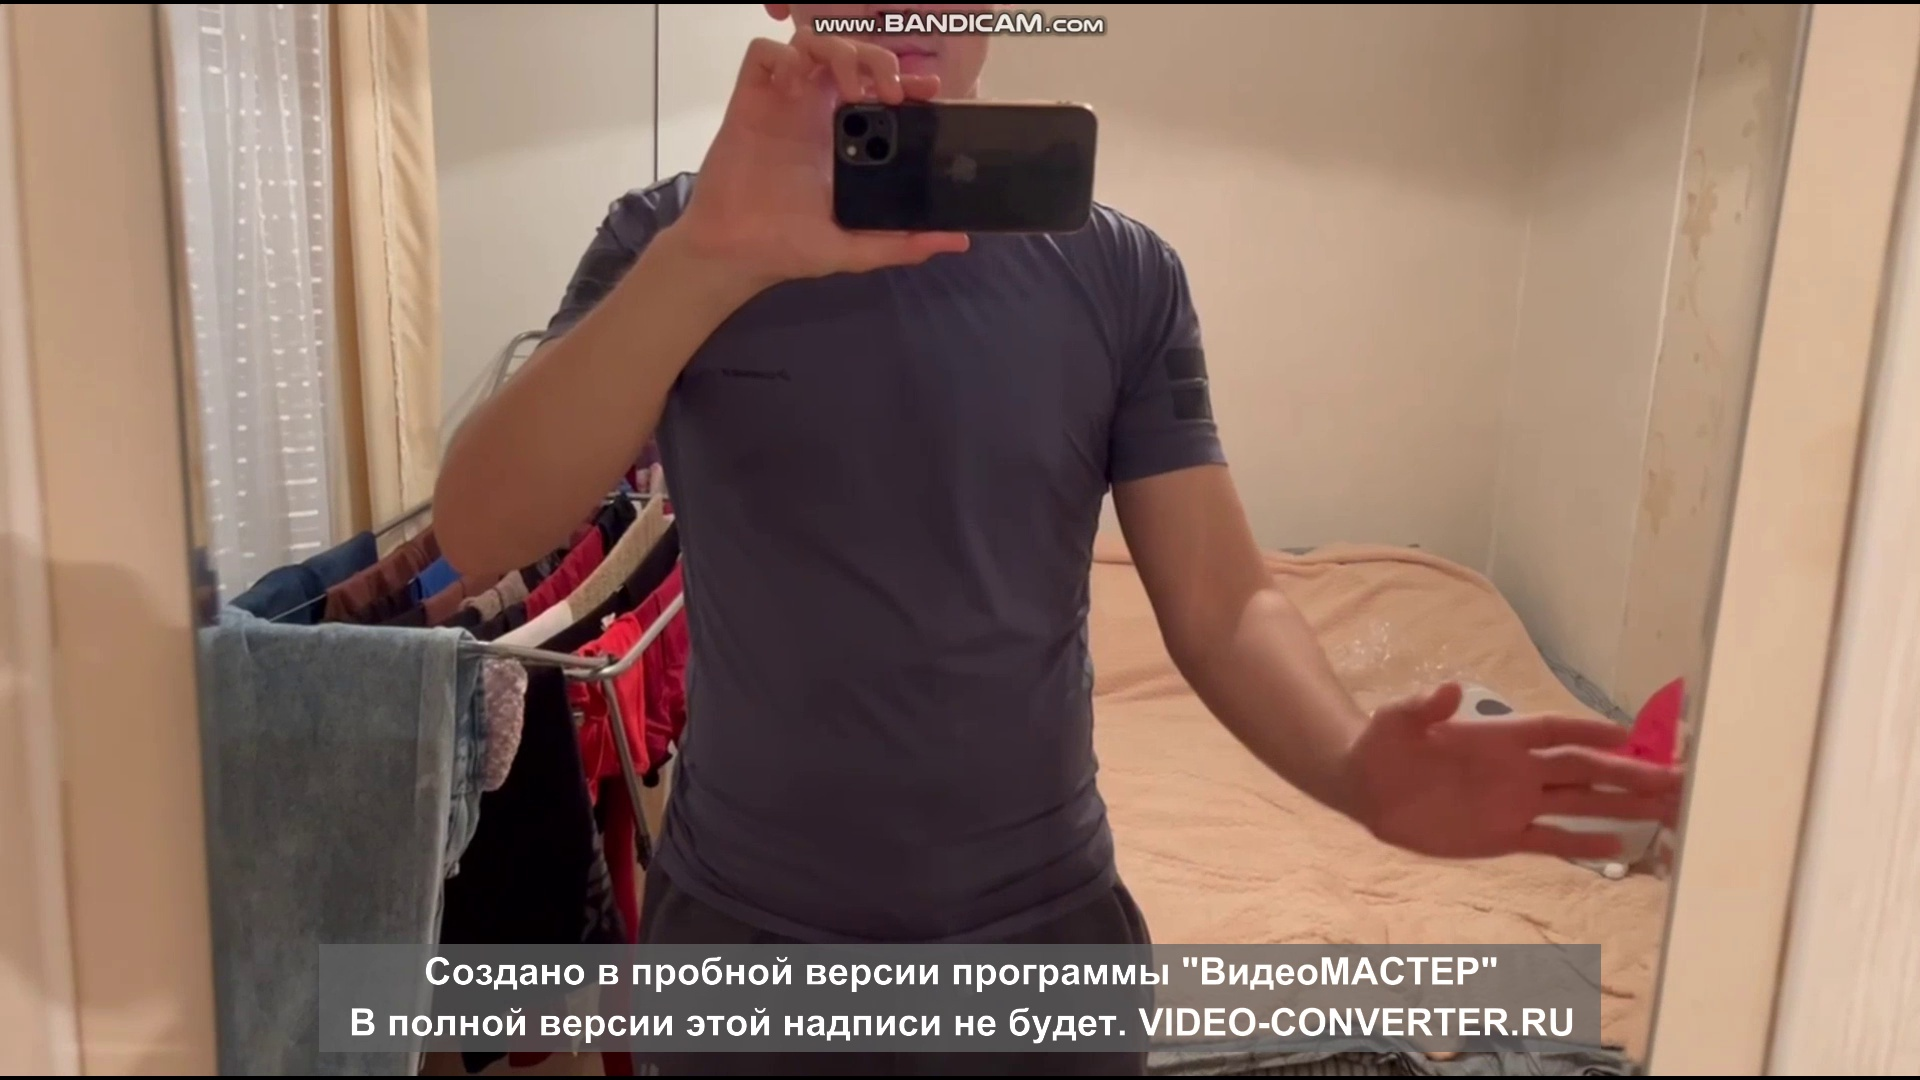Ладонь: (1353, 678, 1687, 861)
